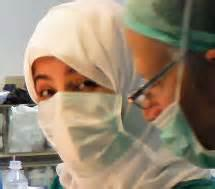OK: (32, 57, 138, 168)
WRONG: (142, 71, 215, 171)
